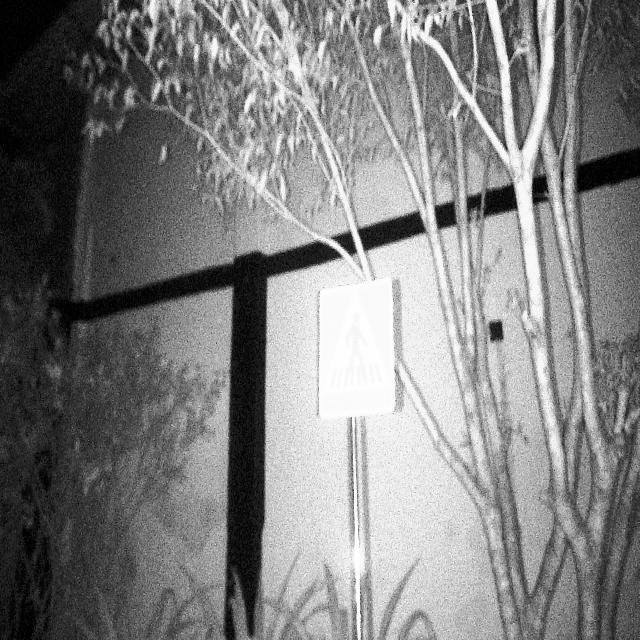Sign: (316, 276, 398, 424)
Tree: (400, 0, 638, 640)
